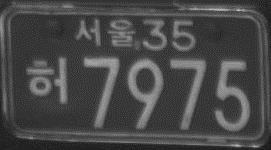3: (139, 18, 167, 52)
5: (213, 60, 251, 132), (172, 18, 196, 53)
7: (81, 54, 122, 132), (168, 57, 207, 132)
9: (127, 58, 165, 131)
서울_O: (74, 17, 136, 49)
허: (25, 53, 69, 105)
